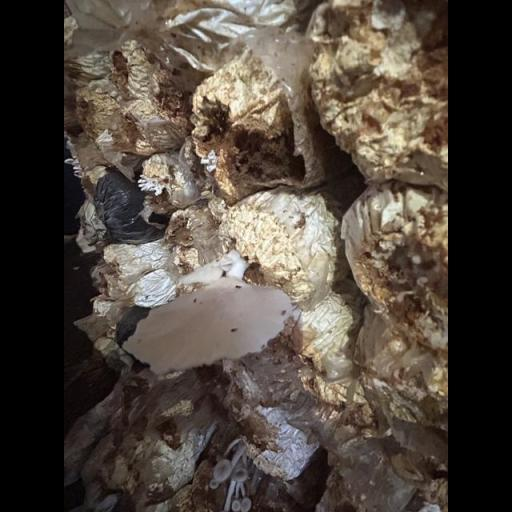White Oyster Mushroom: (131, 250, 293, 367)
